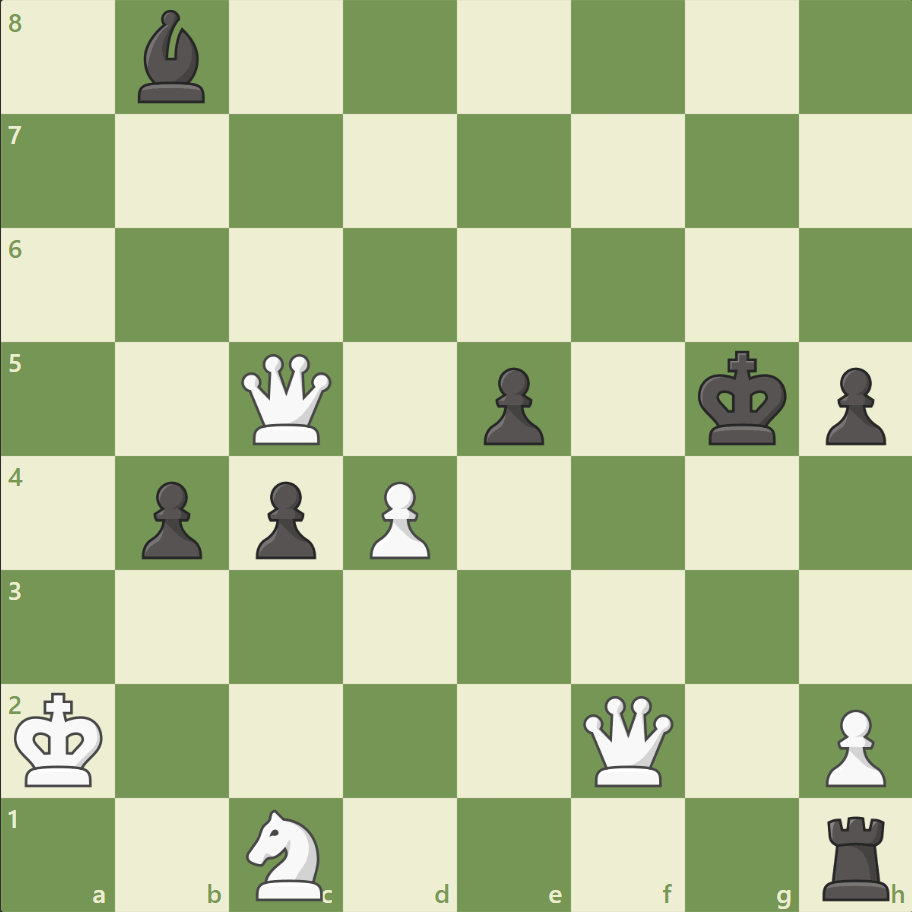K: (11, 685, 111, 793)
N: (238, 802, 335, 904)
P: (361, 473, 435, 564), (815, 700, 889, 791)
Q: (237, 349, 336, 449), (578, 690, 677, 789)
b: (131, 6, 215, 109)
k: (692, 344, 792, 452)
p: (474, 359, 549, 450), (133, 473, 208, 564), (247, 473, 322, 564), (815, 359, 889, 450)
r: (814, 806, 897, 904)
